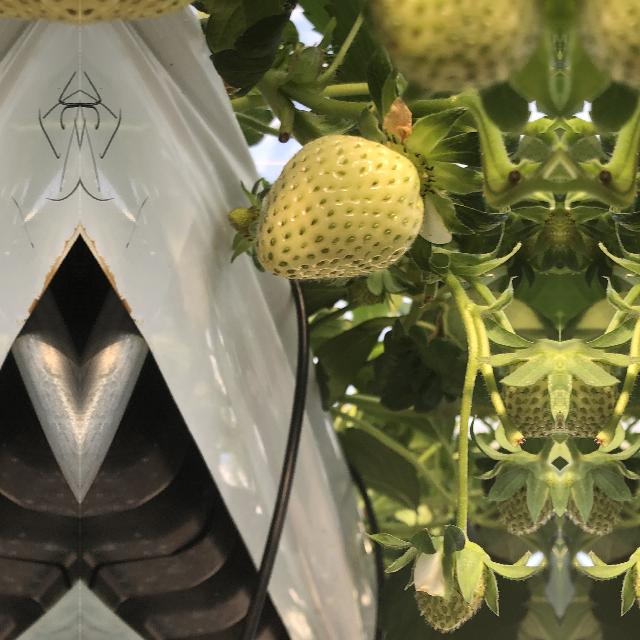Health_25: (252, 128, 420, 286), (412, 546, 486, 632), (503, 346, 559, 444), (561, 346, 617, 444), (497, 462, 559, 538), (561, 462, 623, 538)
